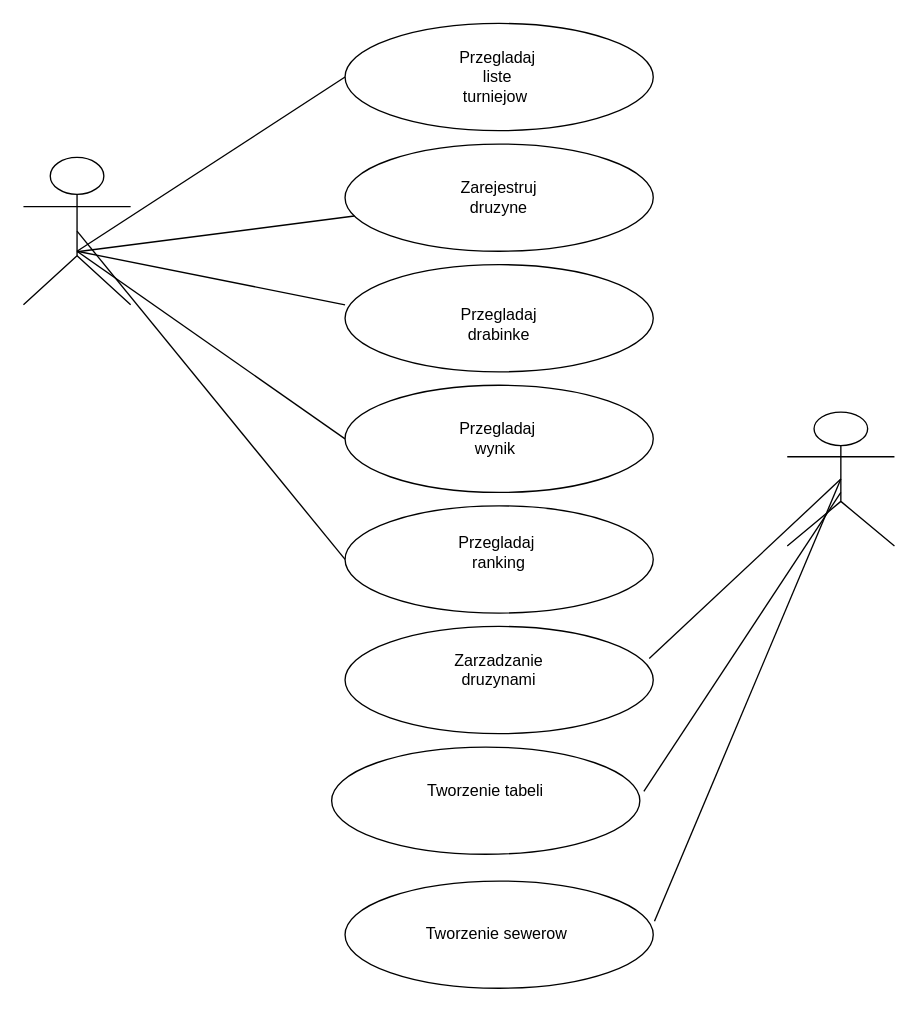
Some shapes in this 918 by 1012 pixel diagram are drawn without their labels. The centre of each missing label's shape, as x and y in pixels:
Administrator: point 840,478
Użytkownik: point 76,230
